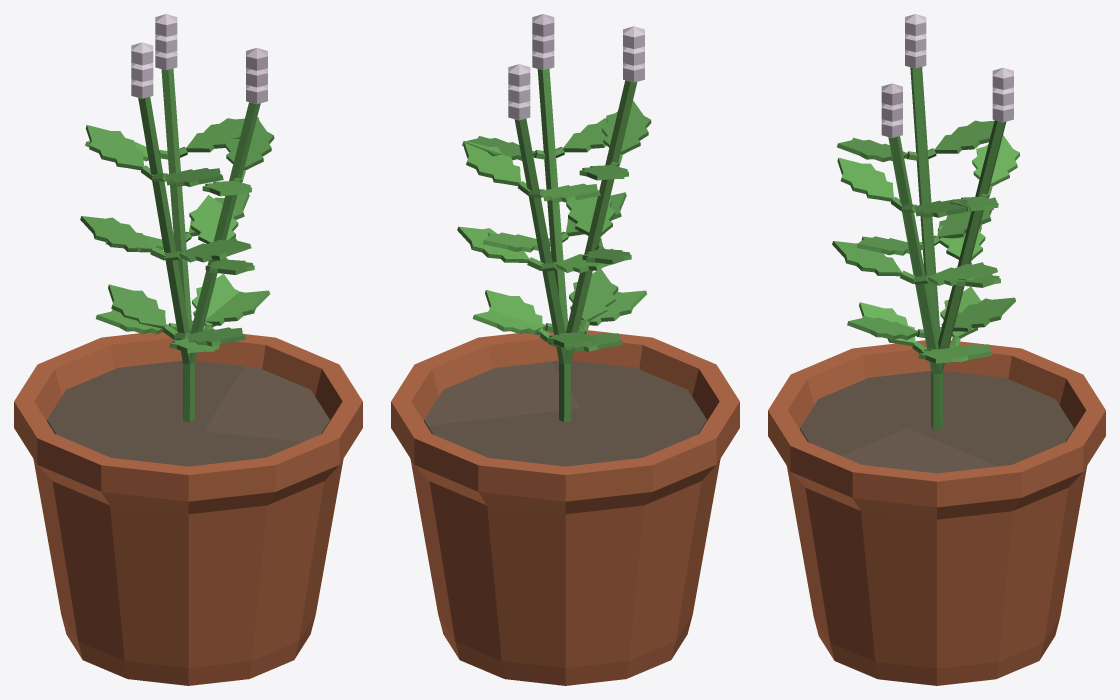
The model's file is mint.glb.
3 renders of one model, left to right at view 1: azimuth 30°, elevation 25°; view 2: azimuth 150°, elevation 25°; view 3: azimuth 270°, elevation 25°, orthographic. The views are drawn at different scales.
Visible parts, largest first — view 1: mint/review-terra-vessel, mint/review-rooted-soil, mint/stem-017, mint/stem-033, mint/stem-001, mint/leaf-027, mint/leaf-019, mint/leaf-023, mint/leaf-041, mint/leaf-011, mint/leaf-045, mint/leaf-003 (+7 smaller); view 2: mint/review-terra-vessel, mint/review-rooted-soil, mint/stem-017, mint/stem-001, mint/stem-033, mint/leaf-011, mint/leaf-021, mint/leaf-029, mint/leaf-003, mint/leaf-007, mint/leaf-025, mint/leaf-037 (+10 smaller); view 3: mint/review-terra-vessel, mint/review-rooted-soil, mint/stem-017, mint/stem-001, mint/stem-033, mint/leaf-043, mint/leaf-039, mint/leaf-019, mint/leaf-027, mint/leaf-013, mint/leaf-021, mint/leaf-041 (+8 smaller).
Boxes of the visible parts, x1,y1,x2,y2 form: mint/review-terra-vessel: [14, 330, 362, 685]; mint/review-rooted-soil: [47, 360, 329, 466]; mint/stem-017: [138, 97, 194, 421]; mint/stem-033: [183, 102, 260, 422]; mint/stem-001: [161, 68, 192, 416]; mint/leaf-027: [85, 125, 143, 170]; mint/leaf-019: [108, 284, 166, 329]; mint/leaf-023: [80, 216, 152, 252]; mint/leaf-041: [189, 195, 238, 243]; mint/leaf-011: [186, 117, 258, 152]; mint/leaf-045: [224, 118, 274, 170]; mint/leaf-003: [205, 290, 269, 325]; mint/review-terra-vessel: [391, 330, 739, 685]; mint/review-rooted-soil: [424, 360, 706, 466]; mint/stem-017: [559, 80, 637, 421]; mint/stem-001: [514, 119, 570, 422]; mint/stem-033: [537, 69, 567, 418]; mint/leaf-011: [463, 140, 520, 185]; mint/leaf-021: [569, 269, 618, 321]; mint/leaf-029: [601, 101, 651, 154]; mint/leaf-003: [485, 290, 543, 335]; mint/leaf-007: [457, 226, 529, 262]; mint/leaf-025: [566, 184, 615, 236]; mint/leaf-037: [472, 309, 546, 334]; mint/review-terra-vessel: [768, 340, 1105, 685]; mint/review-rooted-soil: [800, 371, 1073, 473]; mint/stem-017: [910, 67, 942, 429]; mint/stem-001: [933, 120, 1006, 429]; mint/stem-033: [888, 136, 942, 426]; mint/leaf-043: [837, 157, 893, 201]; mint/leaf-039: [832, 241, 901, 276]; mint/leaf-019: [953, 297, 1015, 331]; mint/leaf-027: [934, 120, 994, 153]; mint/leaf-013: [972, 135, 1019, 186]; mint/leaf-021: [847, 315, 918, 340]; mint/leaf-041: [928, 262, 997, 285].
Bounding box in the file's own units: 0.19 × 0.369 × 0.19.
Materials: 4 (4 with a texture image).
